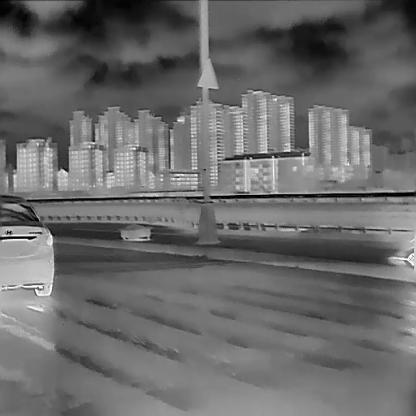car: (0, 193, 53, 296)
